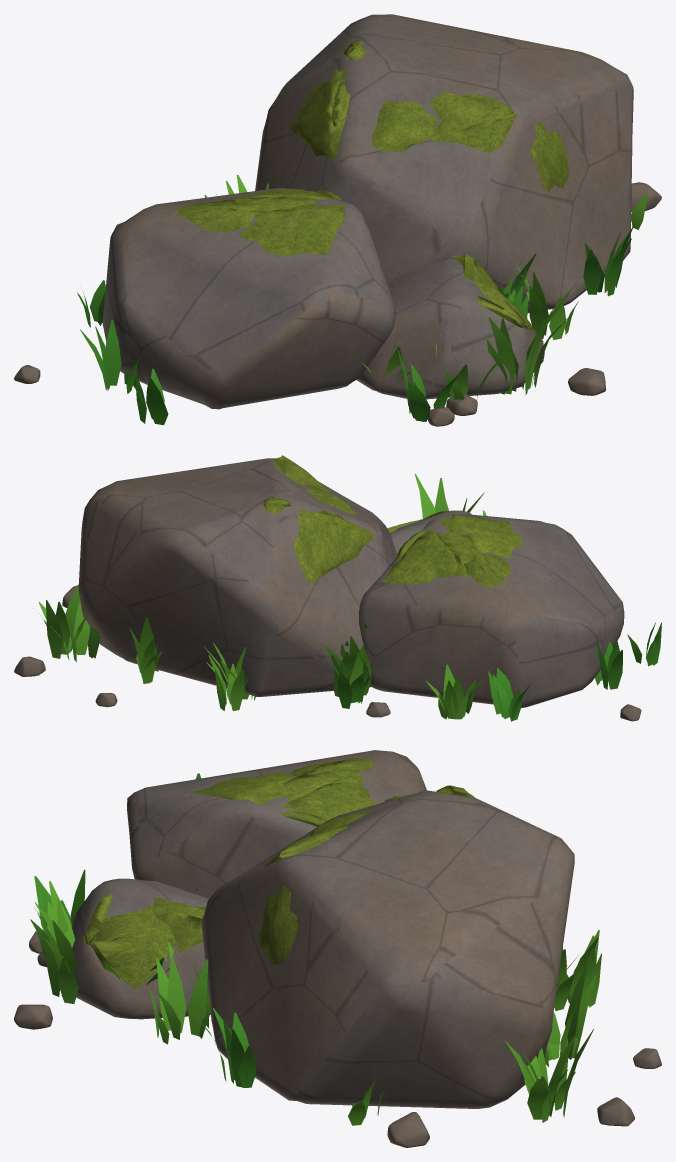
File: rock_cluster.glb
3 renders of one model, top to bottom at view 1: azimuth 30°, elevation 25°; view 2: azimuth 150°, elevation 25°; view 3: azimuth 270°, elevation 25°, orthographic. The views are drawn at different scales.
Parts seen in each view (by area): view 1: model; view 2: model; view 3: model.
Boxes of the visible parts, <box> form: model: <box>14,14,661,426</box>; model: <box>14,455,661,721</box>; model: <box>14,750,661,1147</box>.
Bounding box in the file's own units: 2.04 × 0.6048 × 1.63.
Materials: 5 (2 with a texture image).
